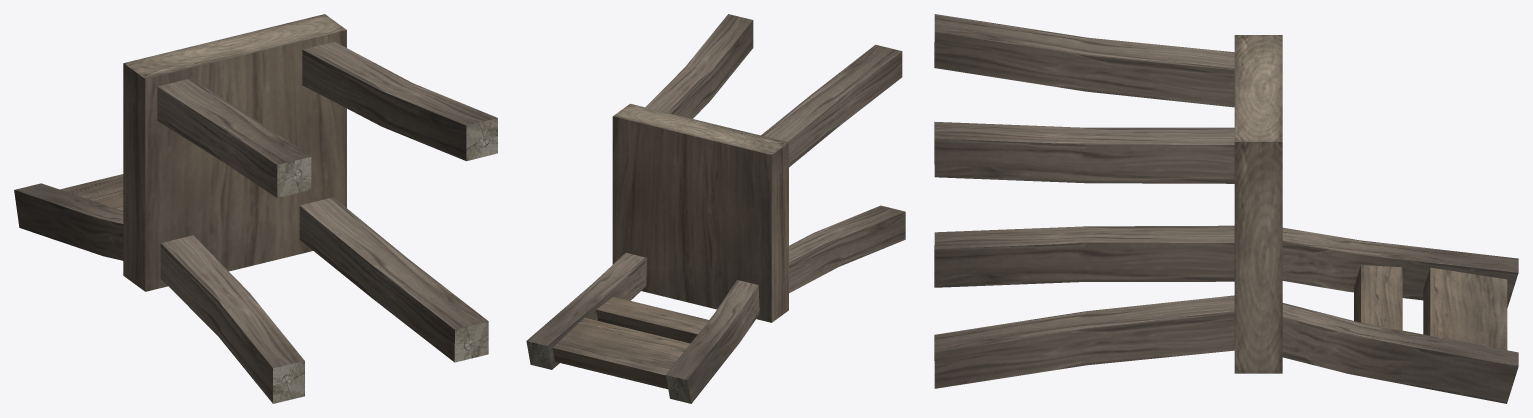
File: BarStool_A.fbx
The picture shows the model from 3 angles, left to right: view 1: azimuth 30°, elevation 25°; view 2: azimuth 150°, elevation 25°; view 3: azimuth 270°, elevation 25°; orthographic projection. The views are drawn at different scales.
Visible parts, largest first — view 1: BarStool_A; view 2: BarStool_A; view 3: BarStool_A.
Boxes of the visible parts, box(x1,y1,x2,y2) form: BarStool_A: box(14, 14, 497, 403); BarStool_A: box(526, 14, 905, 403); BarStool_A: box(934, 14, 1518, 403).
Bounding box in the file's own units: 0.6326 × 0.6887 × 1.31.
